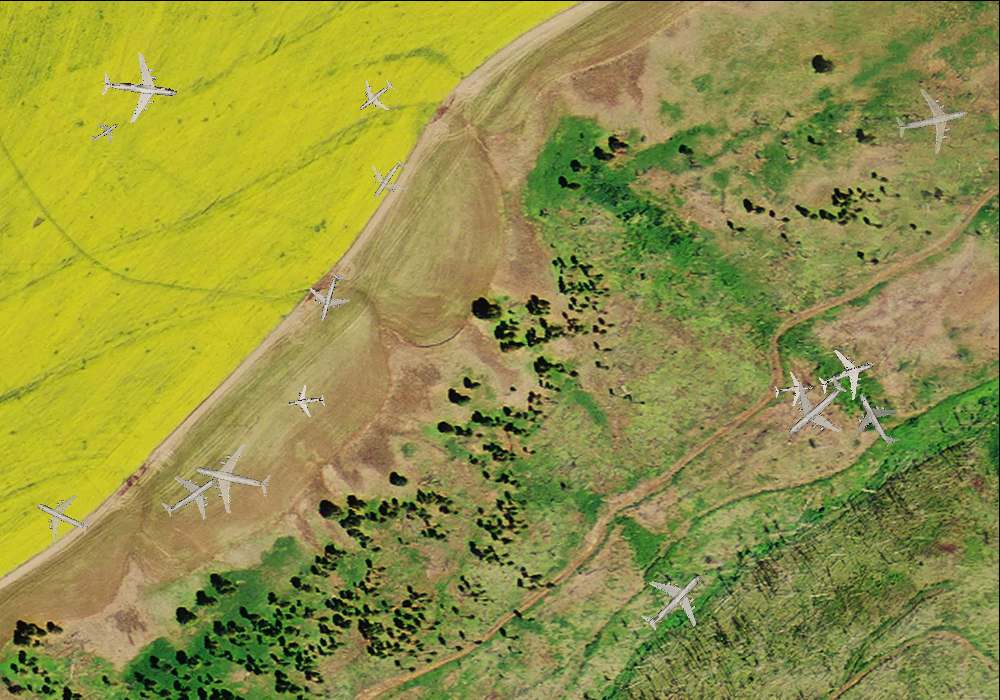plane: (765, 357, 866, 458), (623, 550, 723, 650), (186, 434, 278, 521), (889, 78, 976, 161), (148, 454, 232, 536), (97, 47, 181, 127), (838, 379, 916, 459), (24, 478, 101, 554), (810, 338, 884, 410), (356, 147, 420, 212), (300, 266, 359, 327), (347, 67, 404, 123), (284, 381, 327, 422), (83, 111, 124, 151), (773, 370, 814, 409)
